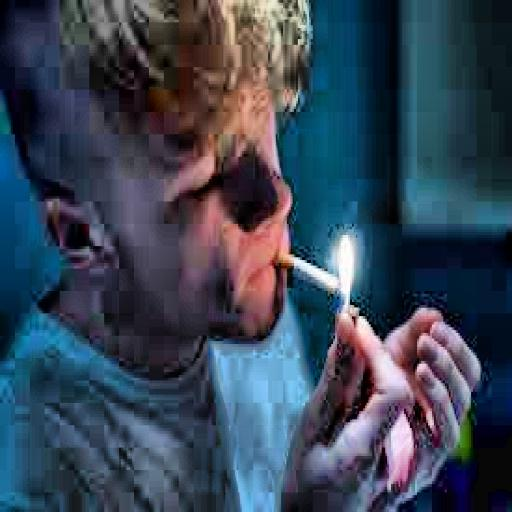fire: (328, 227, 354, 305)
